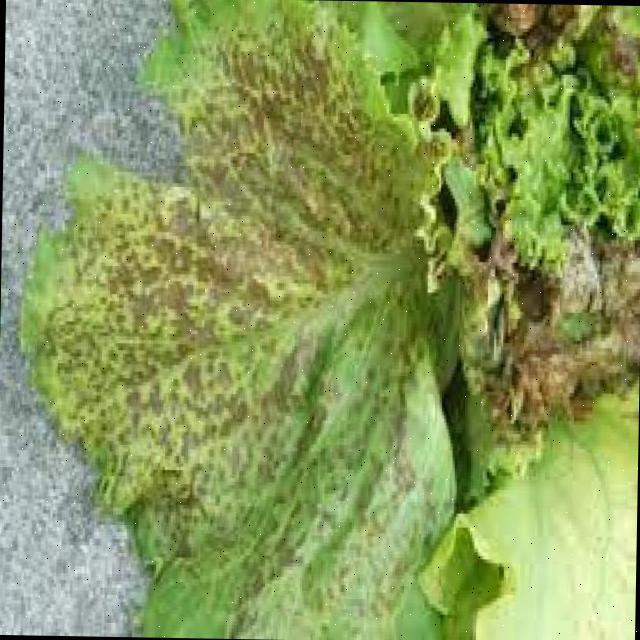Lettuce Mosaic Virus: (167, 157, 448, 536)
